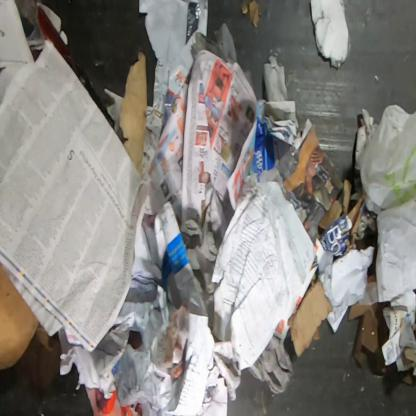cardboard: (141, 200, 209, 318), (0, 262, 40, 370), (317, 178, 368, 258), (287, 272, 333, 358), (119, 50, 148, 176), (381, 290, 415, 377), (310, 0, 352, 70)
soft_plastic: (359, 104, 415, 304), (190, 22, 238, 65)
